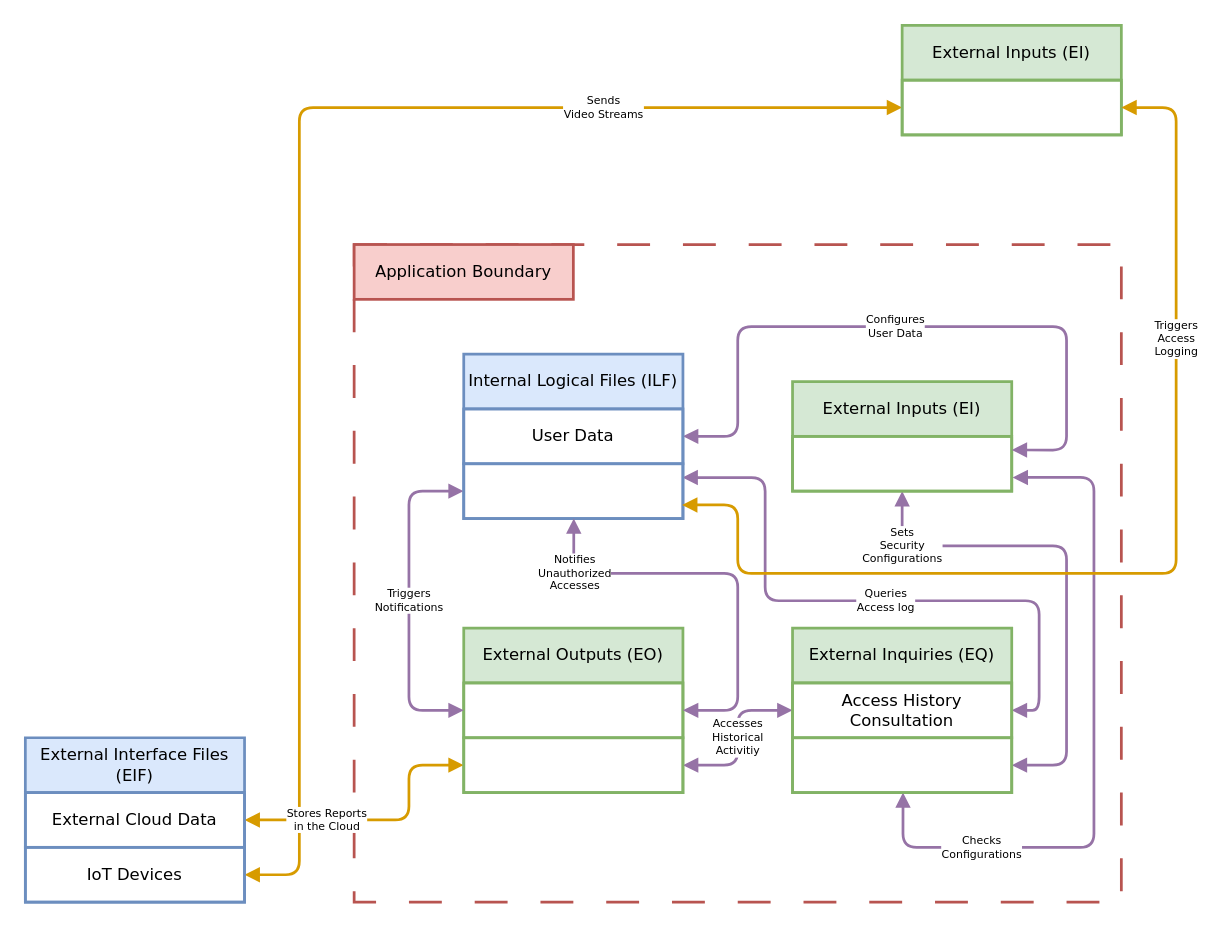
Image size: 1221x926. Some labels were removed from this diagram. The shapes that lost their labels are listed below. From the top down, each one's centre as x and y in pixels, then its label:
point (1011, 107): Video Input from IoT Cameras
point (901, 463): Configuration Input from Administrators
point (573, 490): Access Log and Notifications
point (573, 709): Real-Time Security Notifications
point (573, 764): Periodic Access Reports
point (901, 764): Security Configuration Inquiry
